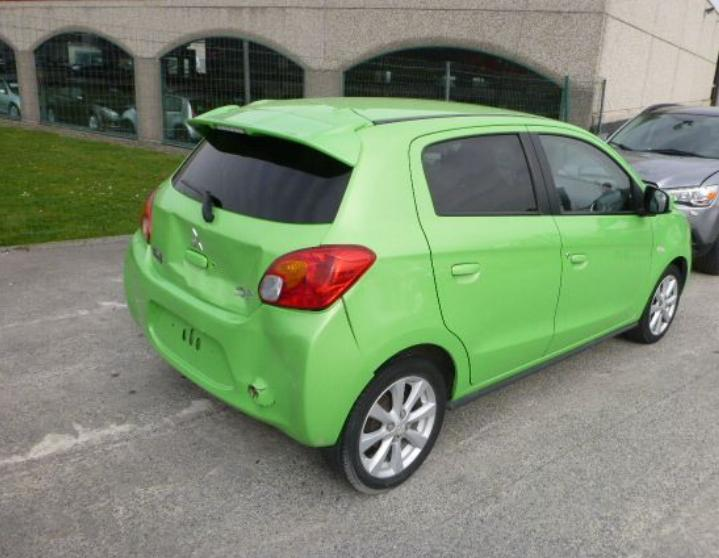Back-bumper: (126, 228, 374, 447)
Back-door: (409, 125, 563, 392)
Back-wheel: (338, 357, 446, 494)
Back-window: (422, 133, 538, 211)
Back-windshield: (172, 129, 354, 224)
Fender: (651, 210, 692, 294)
Front-door: (526, 126, 652, 361)
Front-wheel: (640, 264, 683, 343)
Front-window: (539, 134, 636, 211)
Mirror: (631, 178, 674, 215)
Quarter-panel: (321, 219, 472, 402)
Rocker-panel: (445, 321, 638, 410)
Roof: (244, 98, 574, 138)
Tail-light: (258, 244, 377, 312), (141, 190, 156, 244)
Trunk: (149, 138, 332, 316), (187, 105, 361, 167)
